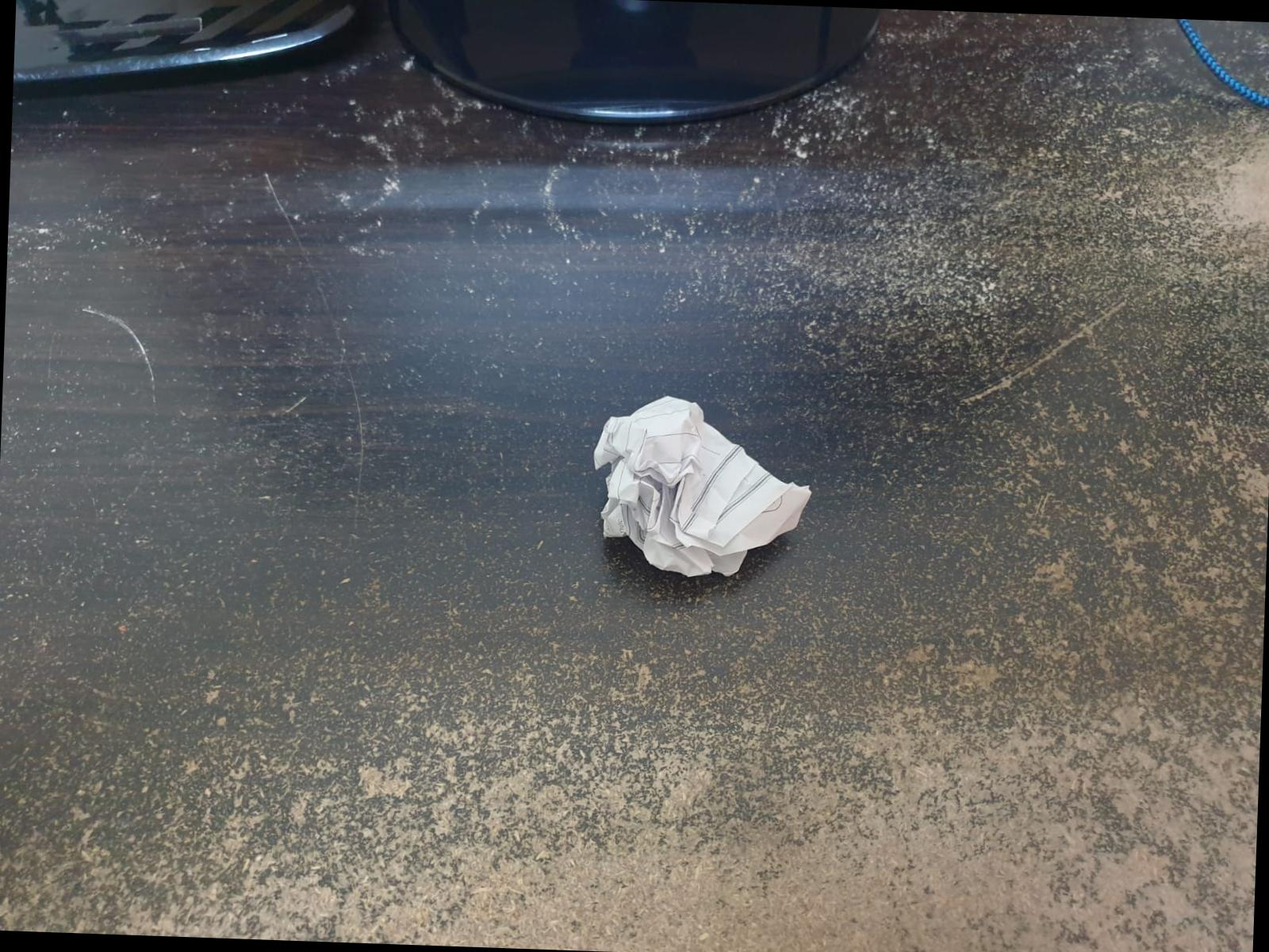Kertas: (595, 395, 812, 598)
